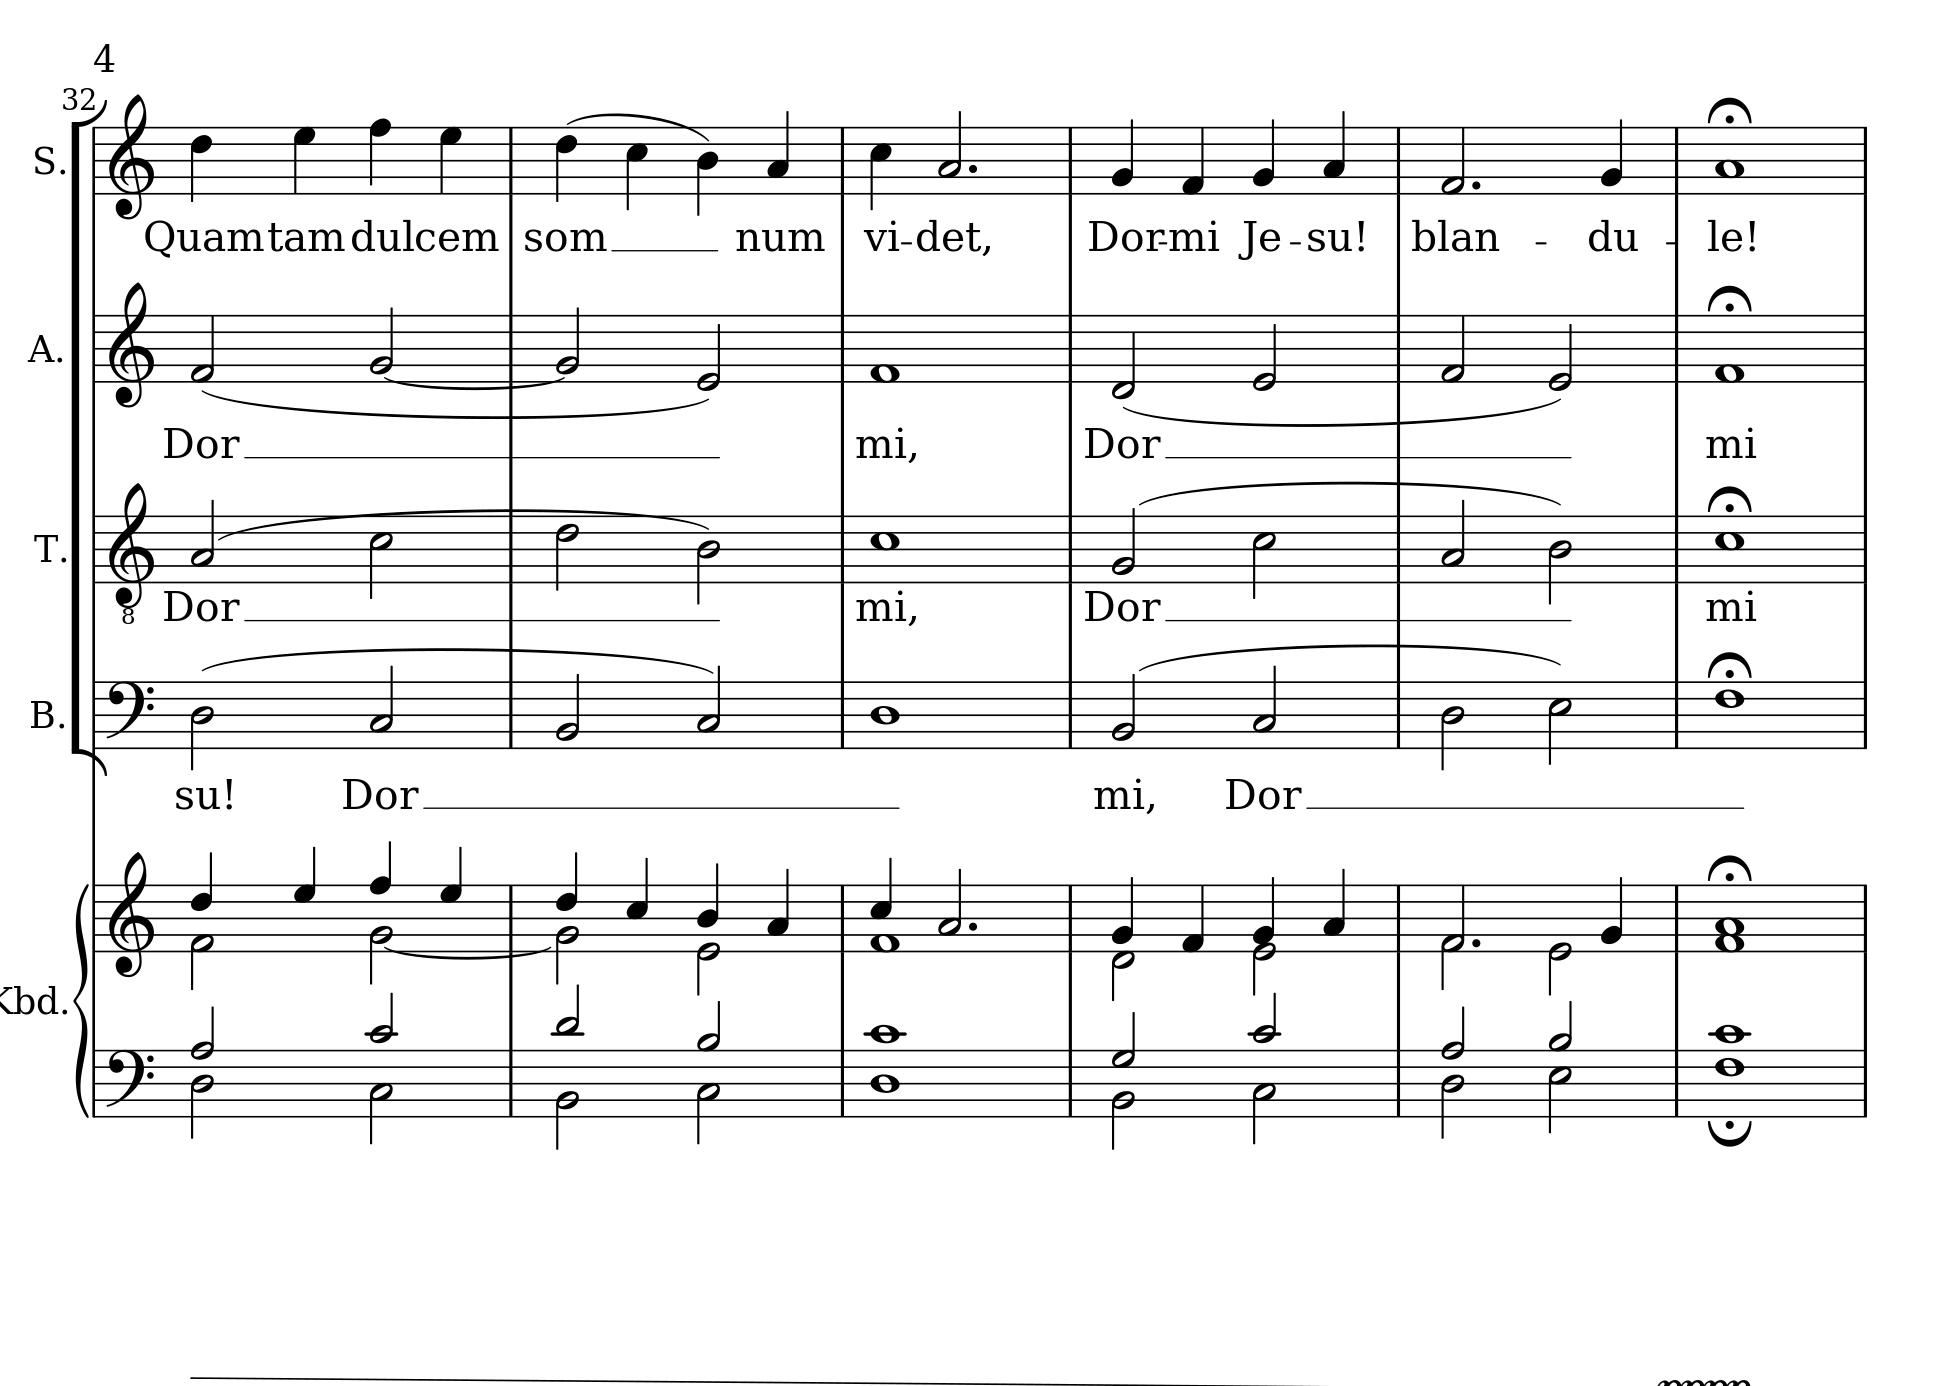1_1: (868, 312, 901, 388), (1713, 312, 1746, 385)
1_1_3: (1713, 883, 1749, 954)
1_3: (1713, 124, 1746, 195)
1_4: (868, 679, 901, 750)
1_4_10: (865, 1023, 910, 1120)
1_5: (1713, 513, 1747, 583), (868, 511, 900, 583)
1_6: (1713, 679, 1747, 750)
1_6_10: (1707, 1023, 1750, 1120)
2: (78, 85, 96, 111)
2_-1: (1110, 312, 1138, 400)
2_0: (1548, 880, 1572, 994), (694, 312, 723, 393), (1251, 312, 1279, 393), (1546, 312, 1575, 393)
2_1: (189, 313, 217, 385), (1440, 313, 1468, 384), (1440, 124, 1467, 196)
2_2: (367, 304, 397, 385), (553, 304, 583, 385), (1110, 505, 1140, 585), (553, 670, 583, 750), (1110, 672, 1140, 751)
2_2_11: (550, 985, 583, 1147)
2_2_7: (1110, 1009, 1138, 1150)
2_3: (1440, 496, 1468, 585), (189, 496, 217, 583), (367, 663, 396, 750), (1251, 663, 1279, 750), (936, 109, 964, 195), (694, 664, 723, 750), (936, 867, 964, 952)
2_3_10: (1248, 994, 1282, 1146), (364, 994, 397, 1147)
2_3_9: (693, 1002, 721, 1146)
2_4: (1546, 511, 1575, 606), (189, 679, 217, 769), (1440, 679, 1467, 772), (694, 513, 721, 604)
2_4_8: (1440, 1008, 1468, 1144), (187, 1006, 216, 1140)
2_5: (1546, 679, 1575, 766), (367, 513, 394, 601), (1251, 514, 1278, 600)
2_5_9: (1548, 1003, 1575, 1135)
2_6: (553, 511, 580, 592)
3: (61, 85, 78, 111)
4: (93, 40, 115, 72)
4_1: (1179, 124, 1206, 196), (1180, 882, 1207, 952)
4_2: (1110, 117, 1137, 196), (1251, 117, 1278, 196), (1599, 117, 1626, 196), (1599, 874, 1626, 952)
4_3: (765, 108, 790, 195), (765, 865, 790, 952), (1321, 865, 1347, 952), (1321, 109, 1347, 193)
4_4: (694, 124, 720, 217)
4_5: (624, 855, 649, 952), (624, 124, 649, 211), (868, 124, 892, 211)
4_6: (189, 124, 213, 204), (553, 124, 577, 204)
4_7: (292, 844, 318, 954), (439, 844, 463, 949), (438, 124, 463, 196), (291, 124, 316, 195)
4_8: (367, 115, 391, 196)
Brace: (72, 880, 91, 1119)
Bracke: (69, 103, 109, 774)
Fclef: (105, 1047, 156, 1120), (103, 679, 156, 750)
Fermata_above: (1704, 1116, 1755, 1147), (1707, 94, 1755, 126), (1707, 852, 1752, 883), (1707, 283, 1753, 313), (1707, 484, 1752, 513), (1707, 649, 1753, 676)
Gclef: (106, 280, 156, 409), (106, 93, 154, 220), (106, 850, 154, 978)
Lower_Gclef: (106, 481, 156, 624)
Single_barline: (501, 508, 520, 580), (1854, 1050, 1875, 1116), (502, 313, 520, 384), (502, 126, 520, 193), (87, 514, 105, 582), (1062, 514, 1080, 582), (832, 883, 850, 951), (85, 315, 103, 381), (1062, 315, 1080, 381), (1855, 315, 1873, 381), (832, 514, 850, 580), (1390, 516, 1408, 582), (1855, 516, 1873, 582), (85, 681, 103, 747), (1668, 681, 1686, 747), (1062, 885, 1080, 951), (1668, 1048, 1686, 1114), (832, 315, 850, 379), (1668, 315, 1686, 379), (1855, 682, 1873, 747), (1668, 885, 1686, 949), (1390, 883, 1407, 951), (1857, 883, 1873, 951), (834, 1048, 850, 1116), (1062, 1048, 1078, 1116), (87, 127, 103, 193), (834, 127, 850, 193), (1857, 127, 1873, 193), (1062, 127, 1078, 193), (1390, 315, 1407, 381), (1668, 514, 1684, 580), (502, 681, 519, 747), (834, 681, 850, 747), (1062, 681, 1078, 747), (1390, 681, 1407, 747), (502, 1048, 519, 1114), (1390, 1048, 1407, 1114), (1668, 127, 1684, 192), (502, 883, 517, 951), (1392, 127, 1407, 193), (88, 883, 102, 951), (88, 1048, 102, 1114)
Slur: (565, 112, 712, 142), (385, 375, 565, 393)
dot: (966, 160, 979, 175), (966, 918, 979, 933), (1470, 934, 1483, 949), (1470, 177, 1482, 190)
